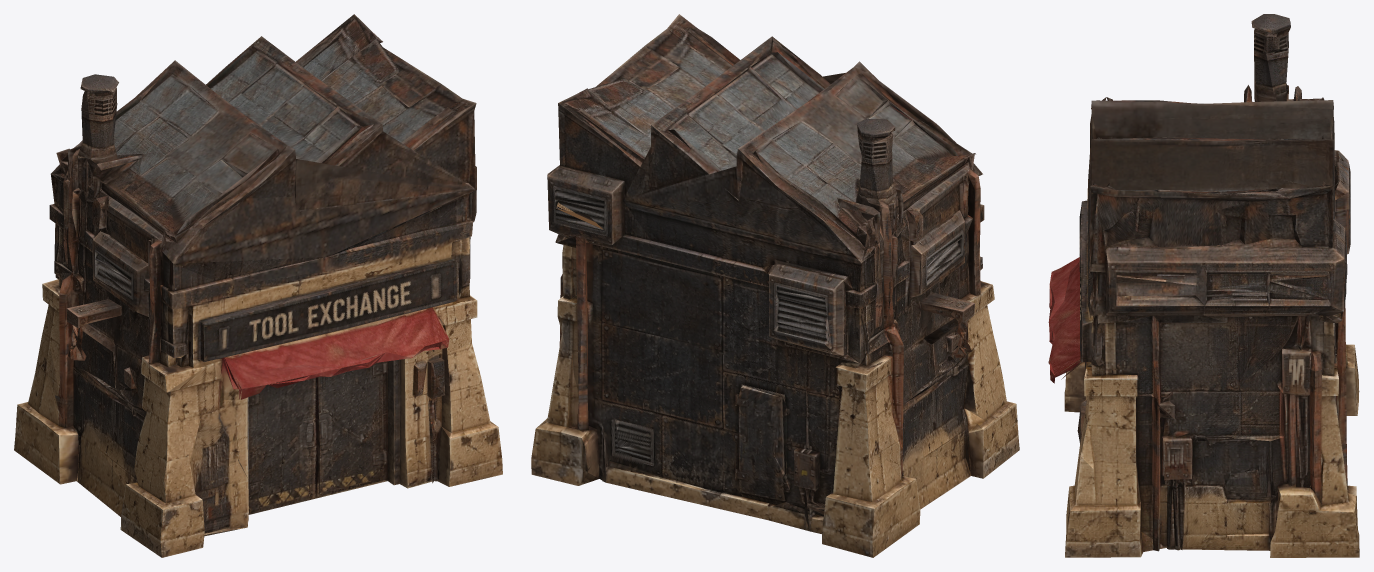
Rendered from tools.glb.
3 renders of one model, left to right at view 1: azimuth 30°, elevation 25°; view 2: azimuth 150°, elevation 25°; view 3: azimuth 270°, elevation 25°, orthographic.
Size of the model in its own units: 1.82 by 1.9 by 1.35.
Materials: 1 (1 with a texture image).
